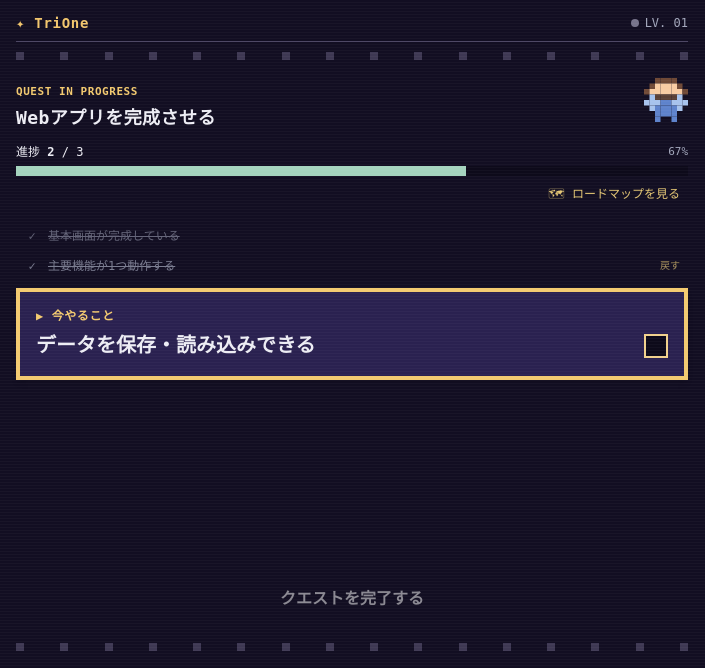
QuestProgressScreen › チェックボックスをクリックするとトグルされ、進捗表示が更新される
This screenshot has width=705, height=668.
Expected: the text "2" is shown, x1=47 y1=145 x2=54 y2=159
# 未完了の cp-3 をクリック
Click the heading "データを保存・読み込みできる" at {"x": 176, "y": 345}, box x1=36 y1=333 x2=316 y2=357
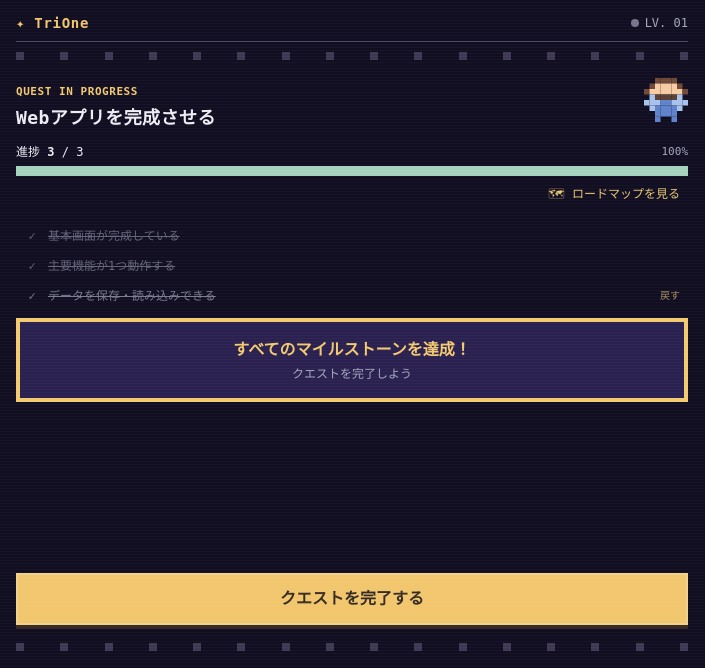
Result: the text "3" is shown at x1=47 y1=145 x2=54 y2=159
